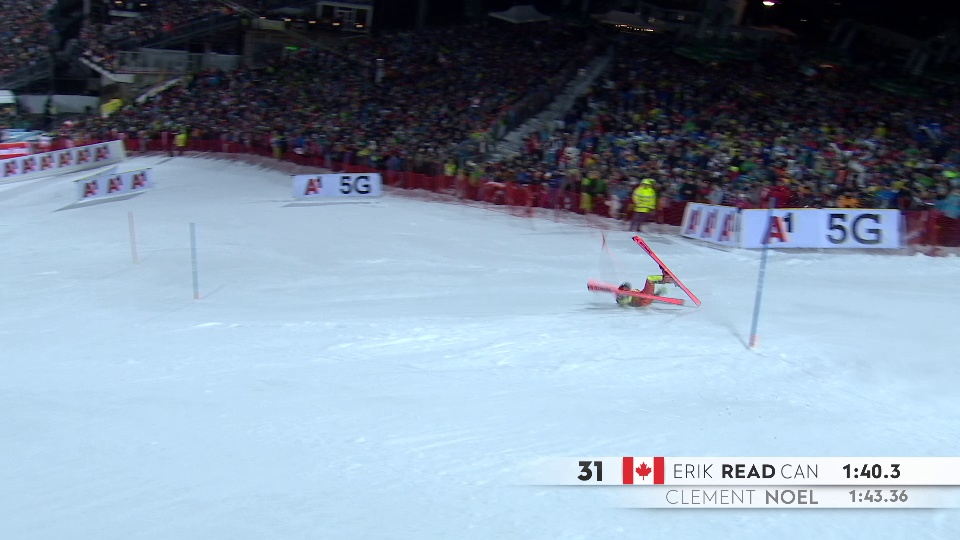5g: (828, 208, 889, 253), (338, 174, 376, 198)
a1: (764, 216, 799, 247), (304, 177, 331, 196), (92, 142, 113, 163), (105, 175, 127, 195), (21, 154, 38, 176), (42, 151, 56, 172), (60, 149, 74, 167)
